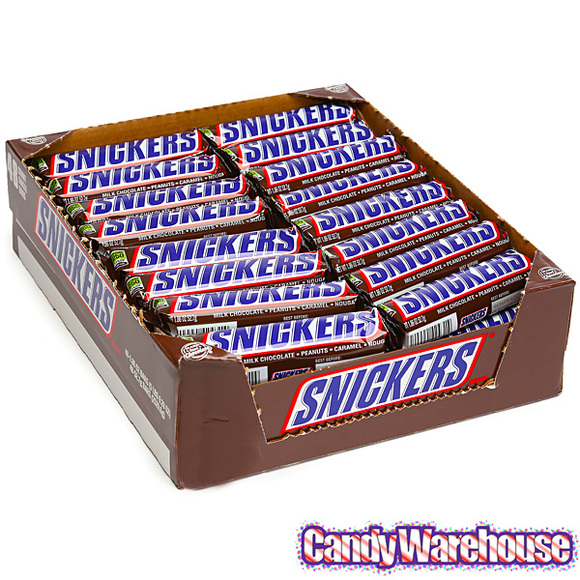snickers: (290, 340, 479, 427), (32, 197, 118, 334), (365, 219, 494, 286), (400, 249, 526, 317), (209, 299, 373, 349), (340, 200, 465, 257), (209, 307, 376, 349), (152, 248, 317, 290), (152, 250, 315, 291), (152, 250, 317, 290), (314, 181, 442, 232), (136, 227, 295, 267), (176, 274, 347, 311), (55, 128, 197, 172), (266, 133, 394, 181), (103, 194, 256, 234), (282, 159, 412, 206), (210, 308, 377, 343), (68, 150, 209, 191), (92, 174, 240, 213), (176, 278, 346, 311), (245, 118, 368, 163), (180, 276, 339, 310), (222, 102, 349, 142), (180, 276, 341, 305), (136, 243, 298, 267), (210, 325, 376, 343), (180, 295, 337, 305)
